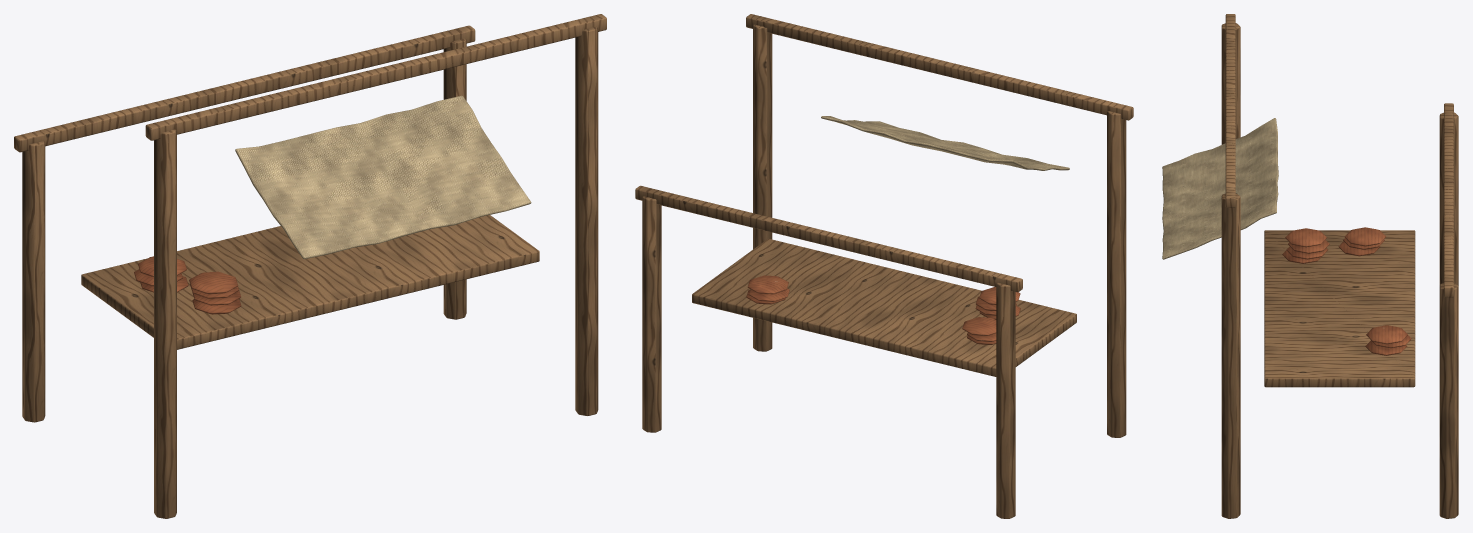
The model's file is leanto_bread.glb.
The picture shows the model from 3 angles, left to right: view 1: azimuth 30°, elevation 25°; view 2: azimuth 150°, elevation 25°; view 3: azimuth 270°, elevation 25°; orthographic projection. The views are drawn at different scales.
Visible parts, largest first — view 1: leanto_bread; view 2: leanto_bread; view 3: leanto_bread.
Boxes of the visible parts, left/top/right/bottom form: leanto_bread: left=14, top=14, right=606, bottom=518; leanto_bread: left=635, top=14, right=1133, bottom=518; leanto_bread: left=1162, top=14, right=1458, bottom=518.
Bounding box in the file's own units: 2.6 × 2.14 × 1.77.
3 materials, 3 textured.
